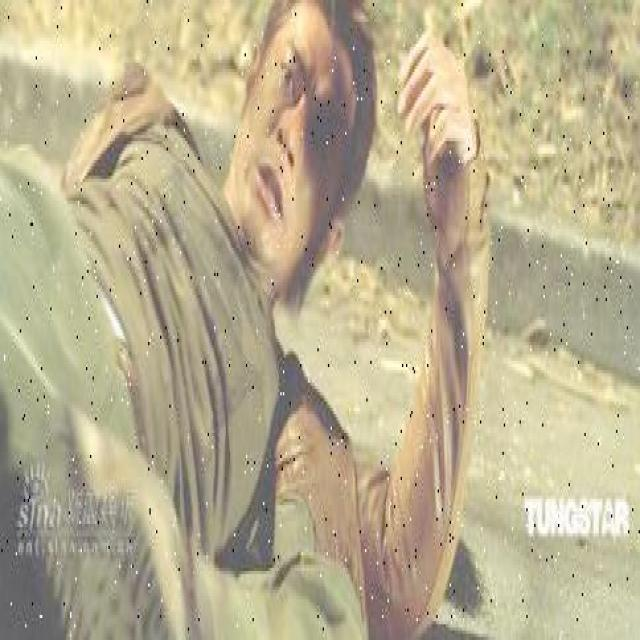fall: (0, 0, 483, 596)
